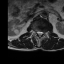CCS_normal: (38, 30, 41, 38)
LFS_severe_stenosis: (43, 31, 45, 35)
LLS_normal: (41, 31, 43, 35)
RFS_severe_stenosis: (34, 29, 36, 35)
RLS_normal: (36, 30, 38, 35)
